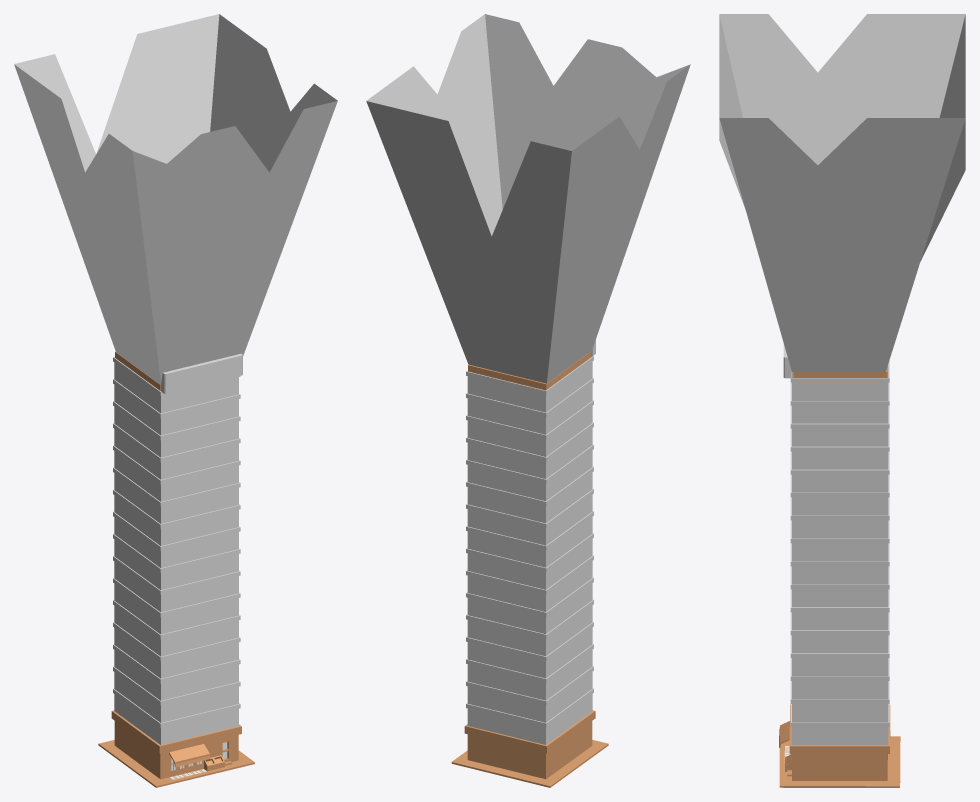
The model's file is MediumA.fbx.
The picture shows the model from 3 angles, left to right: view 1: azimuth 30°, elevation 25°; view 2: azimuth 150°, elevation 25°; view 3: azimuth 270°, elevation 25°; orthographic projection. The views are drawn at different scales.
Visible parts, largest first — view 1: MediumA_LOD0; view 2: MediumA_LOD0; view 3: MediumA_LOD0.
Part boxes in pixels (box(x1,y1,x2,y2)): MediumA_LOD0: box(14, 14, 337, 787); MediumA_LOD0: box(366, 14, 690, 787); MediumA_LOD0: box(719, 14, 965, 787).
Size of what is drawn, in the model's own units: 31.5 by 98.41 by 31.5.
